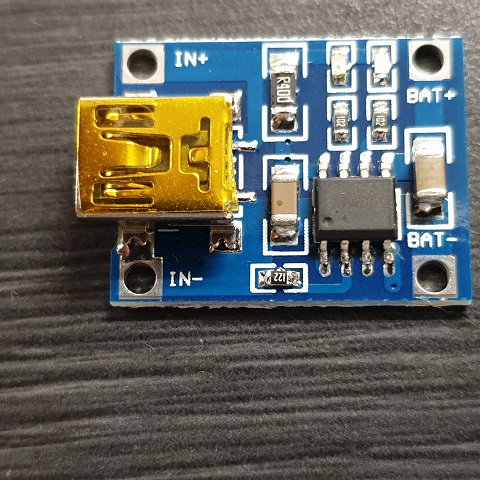batt+: (412, 38, 449, 83)
batt-: (409, 258, 459, 300)
charge: (324, 40, 370, 98)
done: (358, 38, 397, 94)
rprog: (256, 263, 304, 290)
usb: (74, 98, 244, 215)
